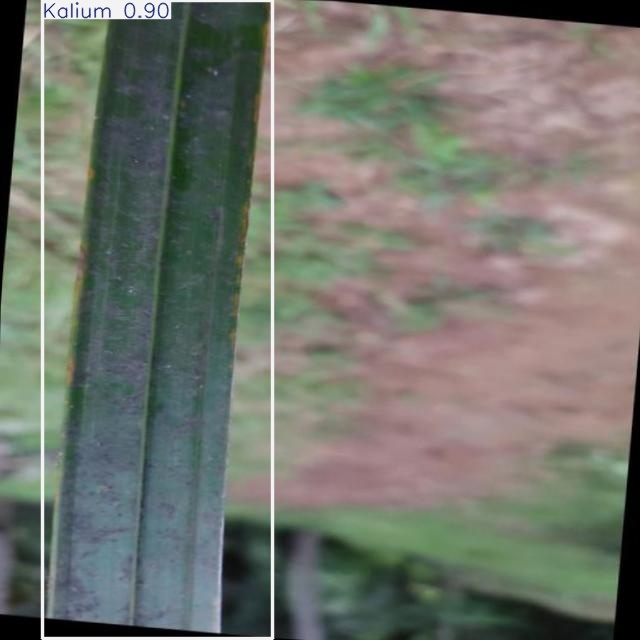Kalium: (43, 0, 272, 638)
